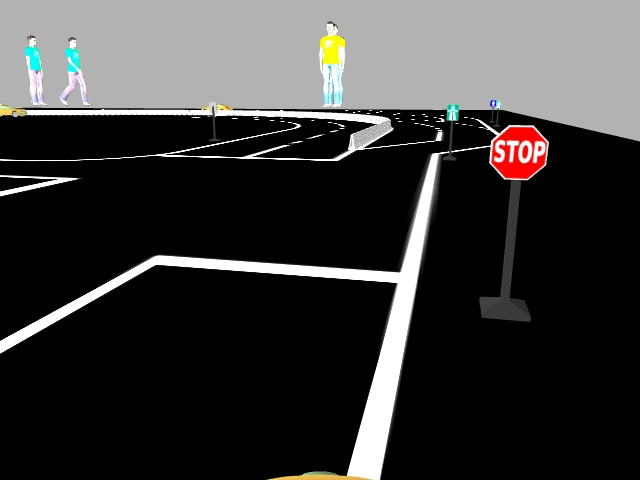Stop: (490, 123, 549, 179)
